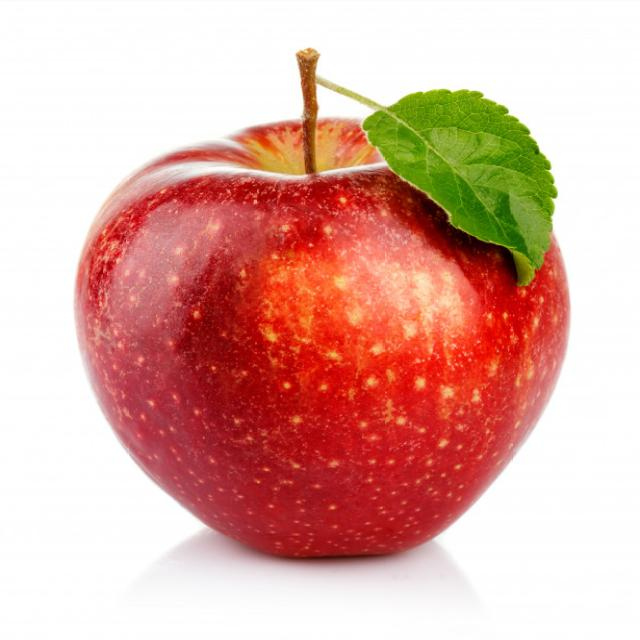Apple: (77, 76, 578, 565)
